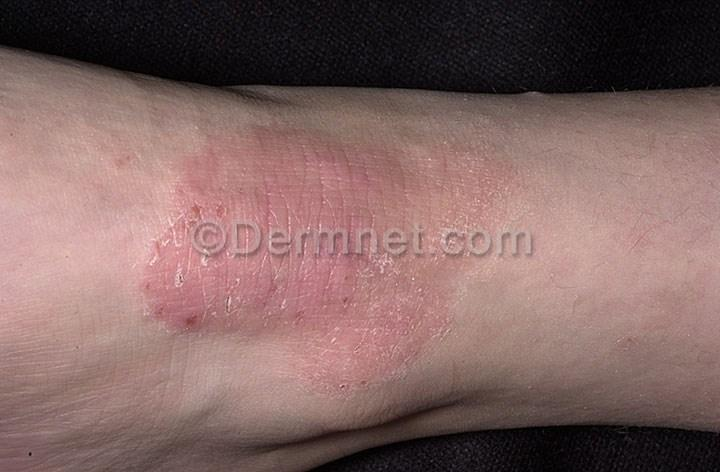Eczema: (184, 96, 519, 228), (190, 259, 442, 396), (113, 230, 199, 322)
